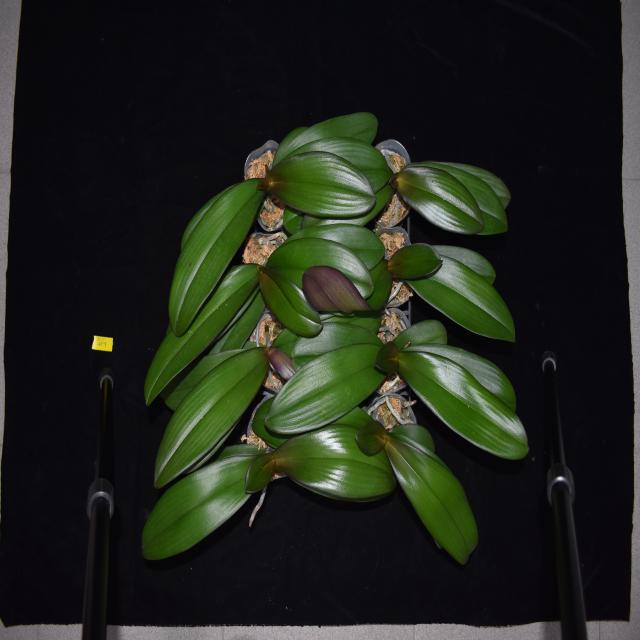leaf: (163, 166, 267, 330), (153, 350, 271, 486), (145, 261, 260, 399), (398, 345, 527, 459), (140, 462, 276, 558), (384, 432, 478, 562), (404, 239, 516, 338), (268, 344, 398, 425), (266, 138, 389, 221), (267, 428, 398, 501), (267, 226, 384, 305), (400, 155, 514, 236), (392, 170, 483, 237), (267, 115, 380, 161), (255, 267, 322, 333), (293, 321, 384, 356), (387, 246, 443, 279)
